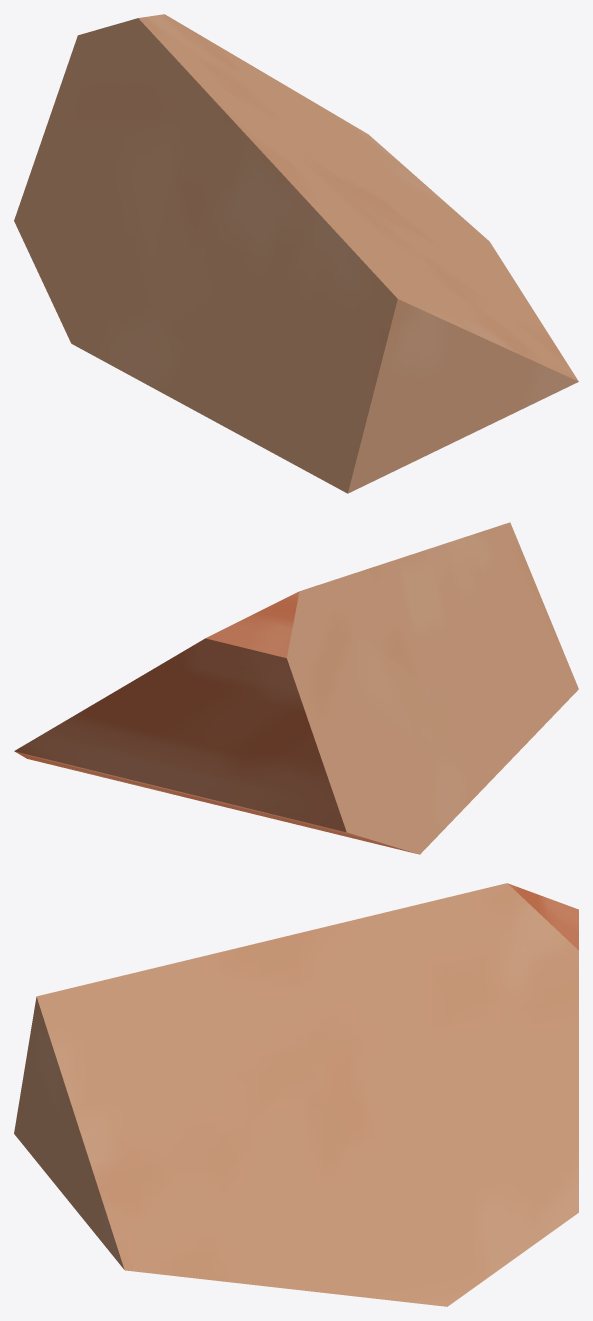
The model's file is tea_table_s02.fbx.
3 views of the same model, one above another, from view 1: azimuth 30°, elevation 25°; view 2: azimuth 150°, elevation 25°; view 3: azimuth 270°, elevation 25° (orthographic). The views are drawn at different scales.
Parts seen in each view (by area): view 1: tea_table_s02; view 2: tea_table_s02; view 3: tea_table_s02.
Part boxes in pixels (x1,y1,x2,y2): tea_table_s02: (14, 14, 578, 493); tea_table_s02: (14, 522, 578, 854); tea_table_s02: (14, 883, 578, 1306).
Bounding box in the file's own units: 0.3093 × 0.1973 × 0.372.
